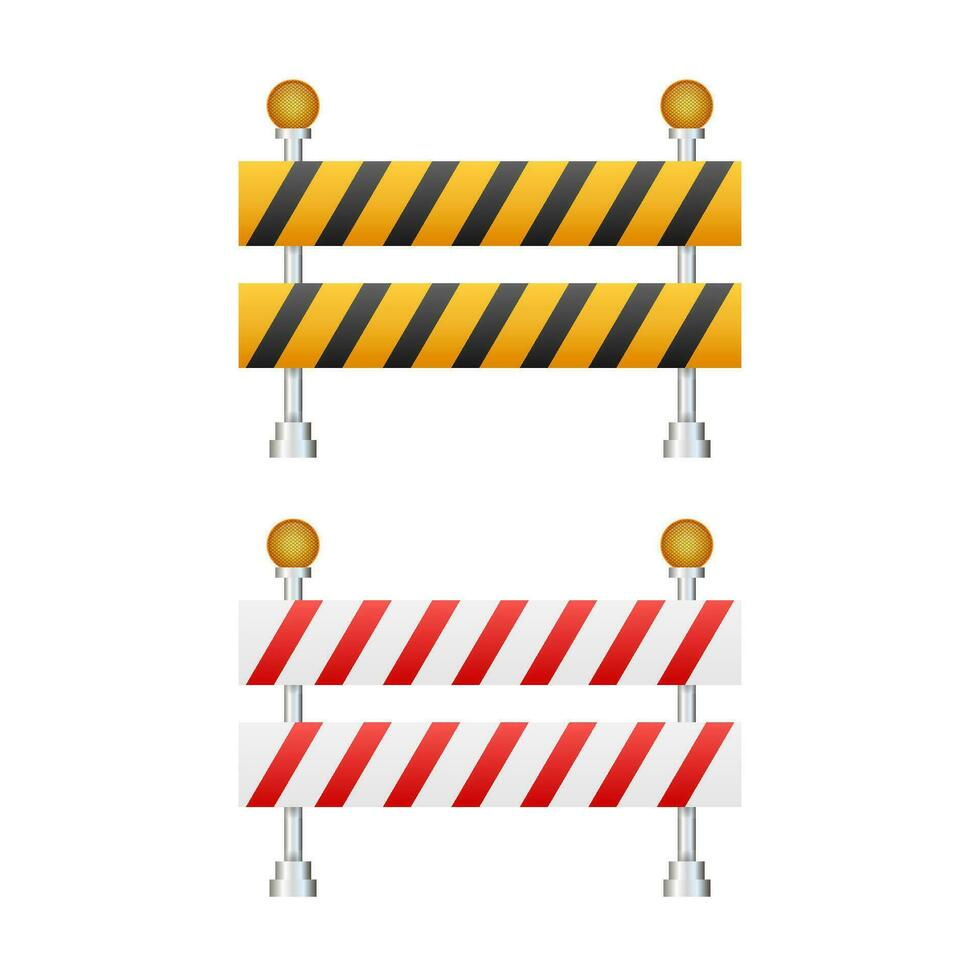Barrier: (185, 509, 796, 928), (186, 63, 792, 477)
